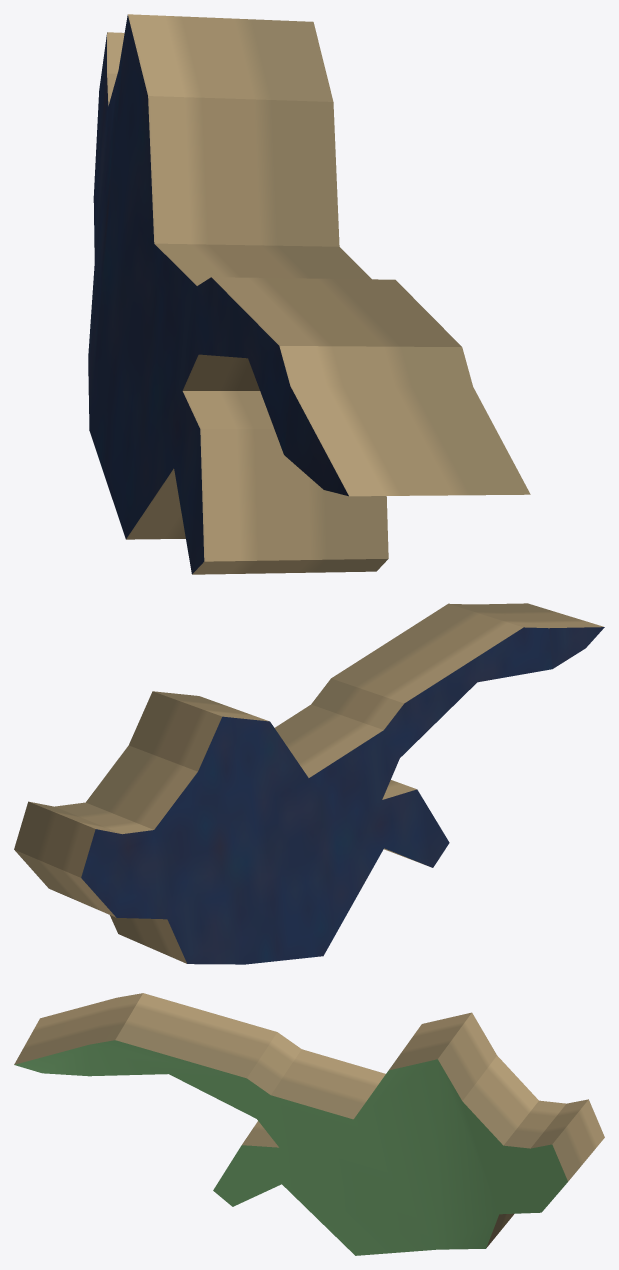
The model's file is 0629_Myanmar.glb.
The picture shows the model from 3 angles, top to bottom: view 1: azimuth 30°, elevation 25°; view 2: azimuth 150°, elevation 25°; view 3: azimuth 270°, elevation 25°; orthographic projection. The views are drawn at different scales.
Visible parts, largest first — view 1: part_0; view 2: part_0; view 3: part_0.
Boxes of the visible parts, box(x1,y1,x2,y2) form: part_0: box(88, 14, 530, 574); part_0: box(14, 603, 604, 964); part_0: box(14, 993, 604, 1255).
Size of the model in its own units: 0.5687 by 0.5311 by 1.25.
Materials: 1 (1 with a texture image).
